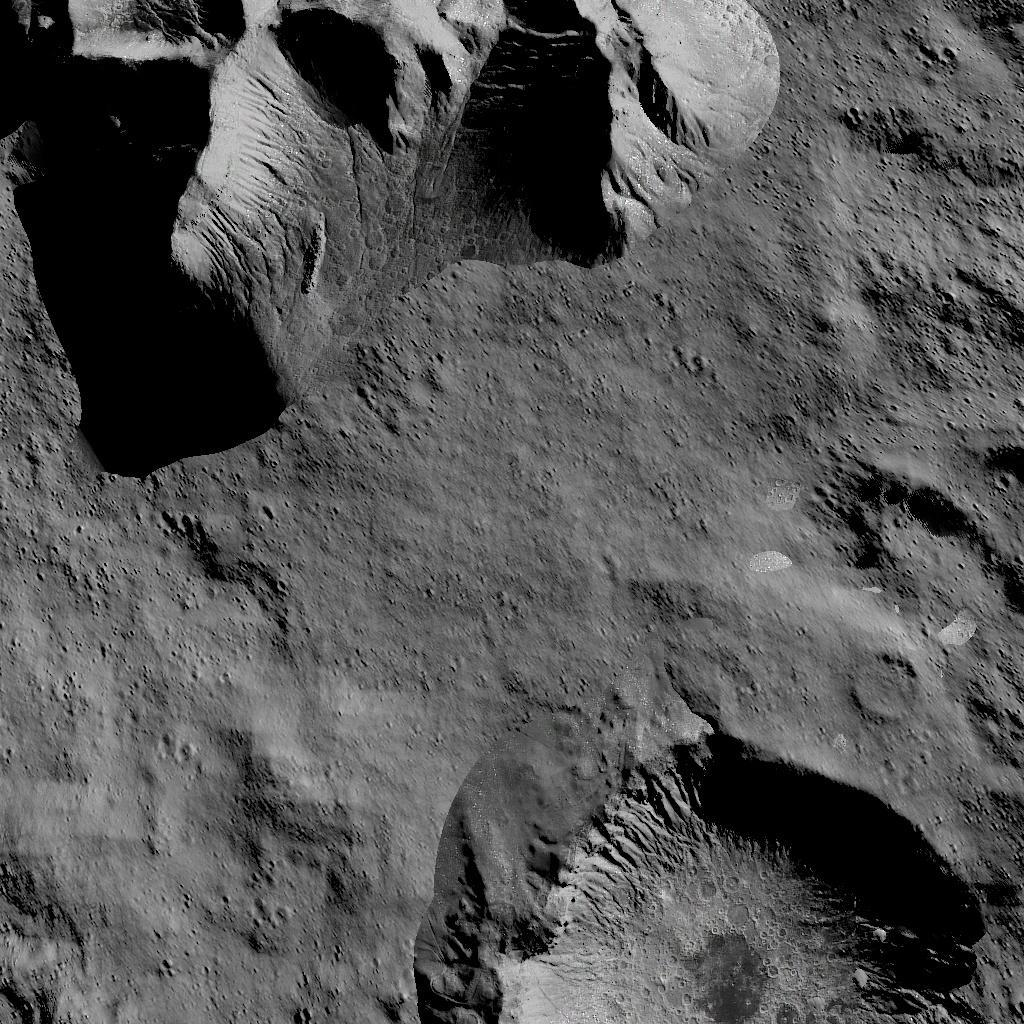Boulders: (2, 0, 778, 472)
Crater: (421, 678, 1024, 1024), (821, 432, 1020, 646), (0, 964, 91, 1024)
Plan surface: (11, 502, 393, 903), (821, 8, 1024, 406), (414, 488, 788, 644)
